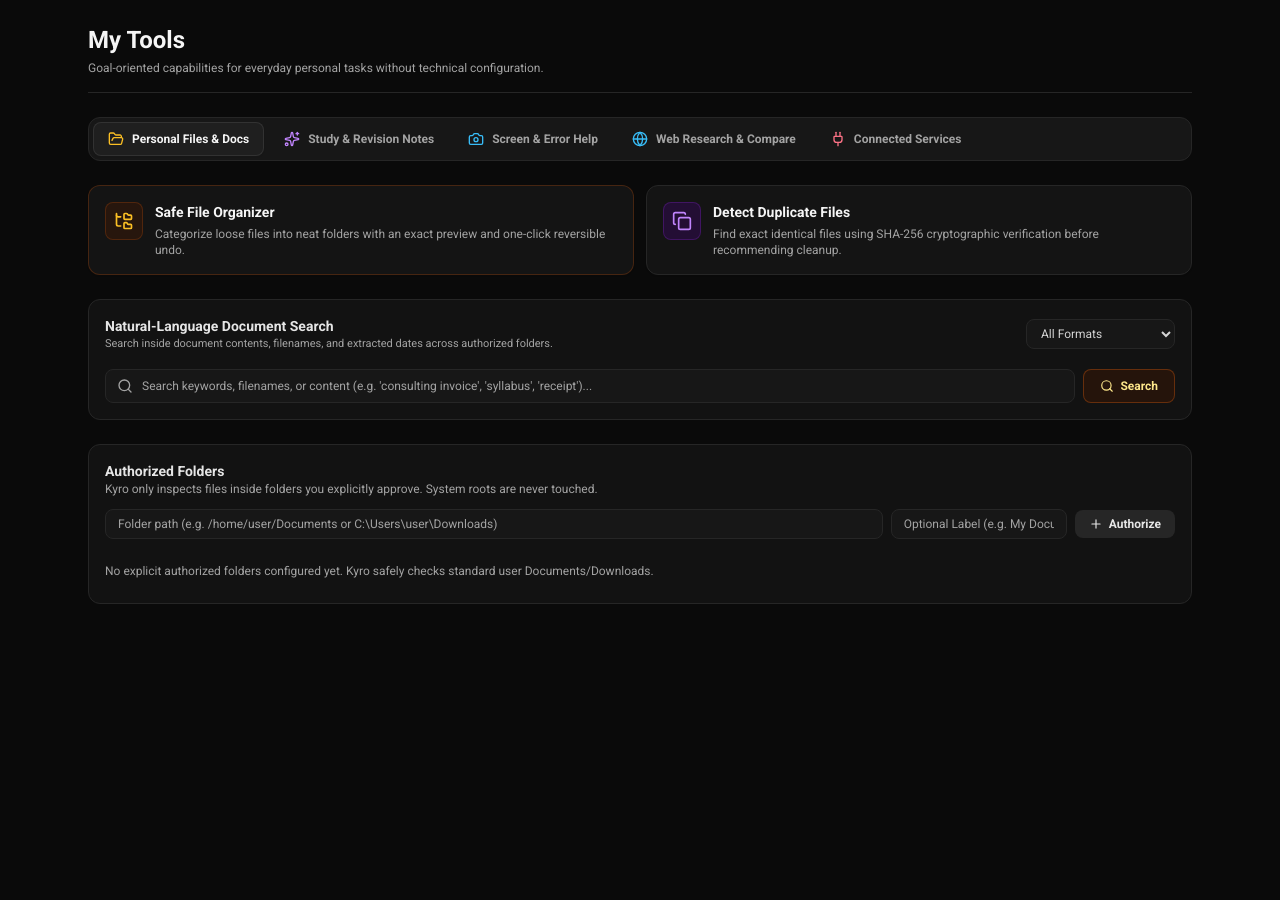
Kyro Everyday Destinations & Workflows › MyToolsView › searches authorized documents with content snippets
The image size is (1280, 900).
Expected: the heading "Natural-Language Document Search" is shown, [105,318,334,334]
Replace the text in the field with placeholder "Search keywords, filenames, or content" with "invoice" at (590, 386), box [105,368,1076,402]
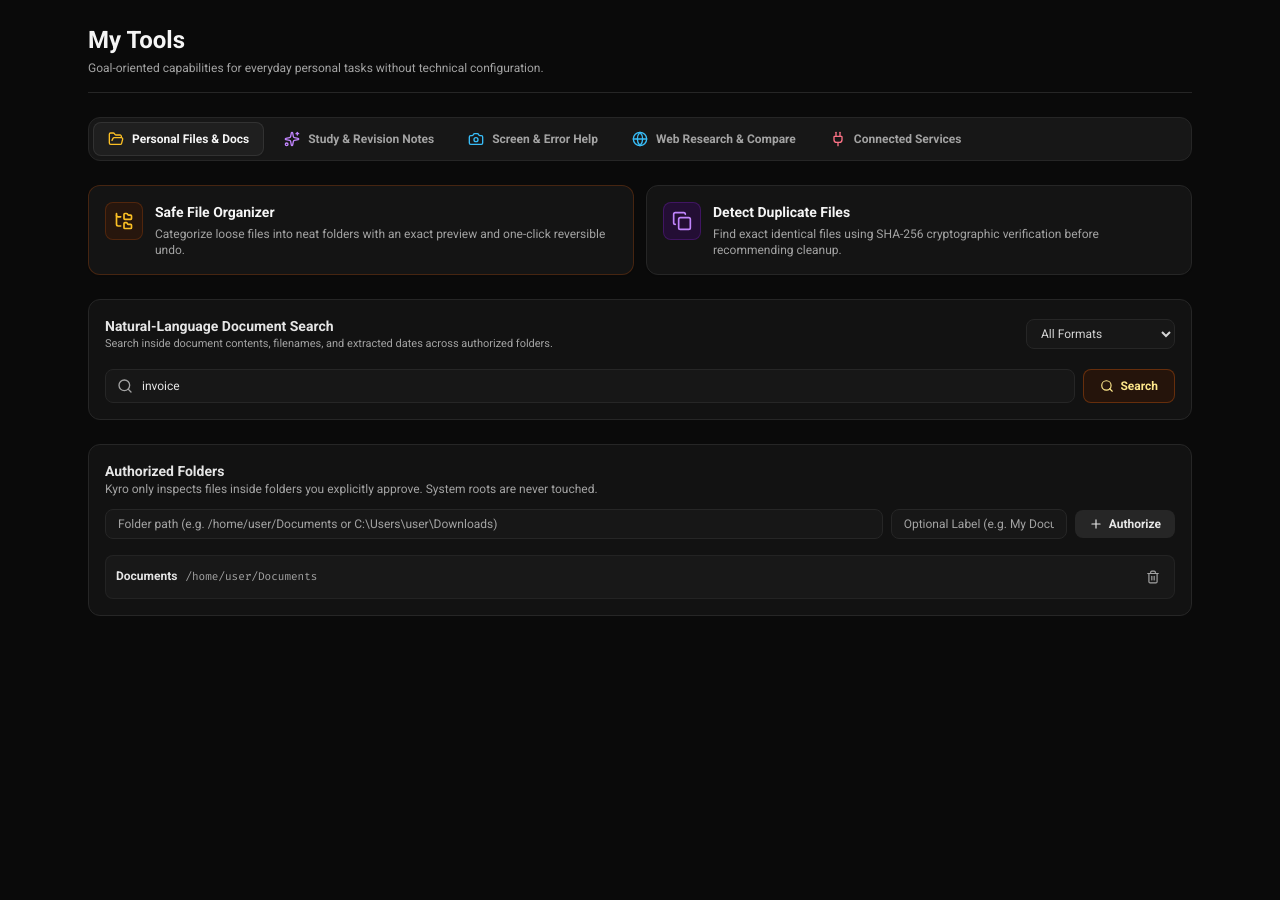
Click the button "Search" at (1129, 386), box [1084,368,1175,402]
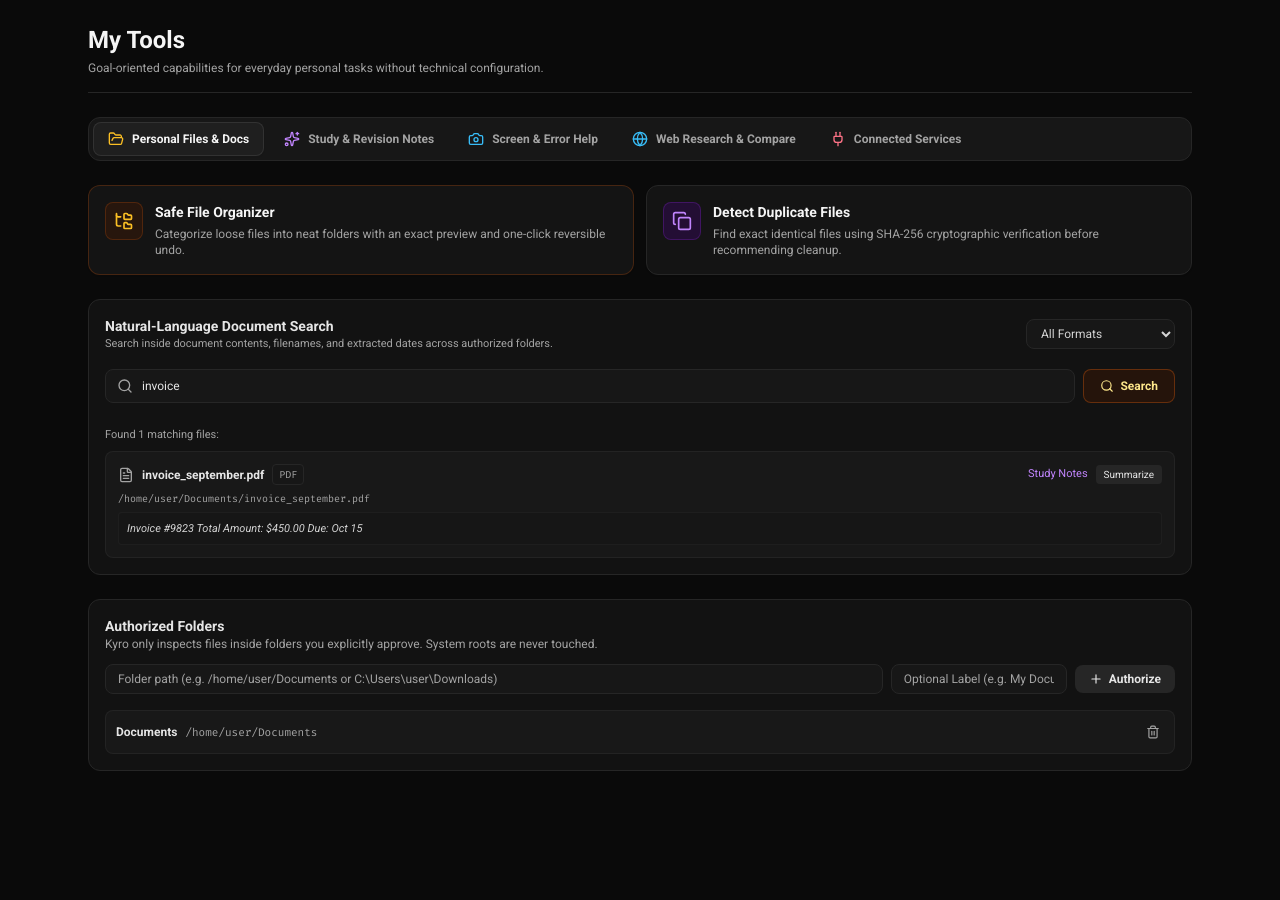
Expected: the text "invoice_september.pdf" is shown, [142,466,264,482]
Expected: the text "Invoice #9823 Total Amount: $450.00 Due: Oct 15" is shown, [118,512,1162,545]
